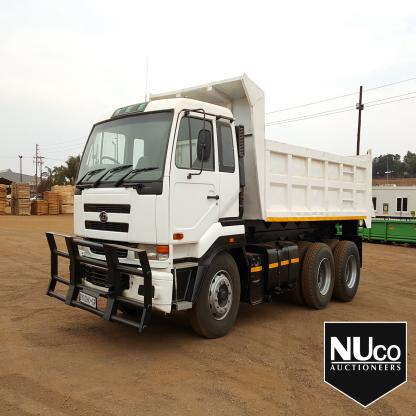dump_truck: (34, 70, 387, 340)
